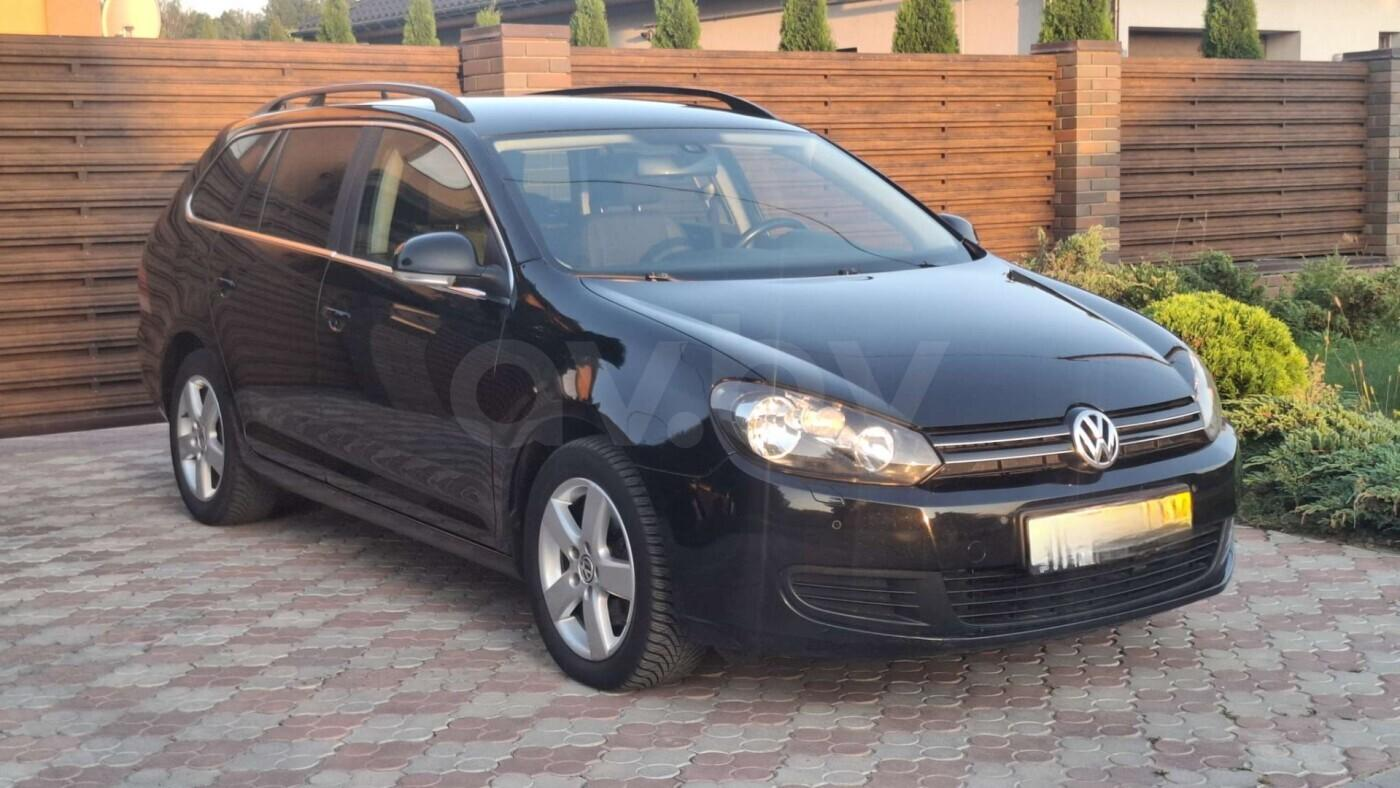Golf_2008-2013: (126, 87, 1251, 687)
